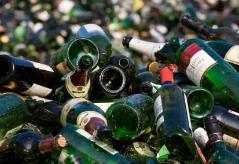glass: (0, 12, 239, 139)
